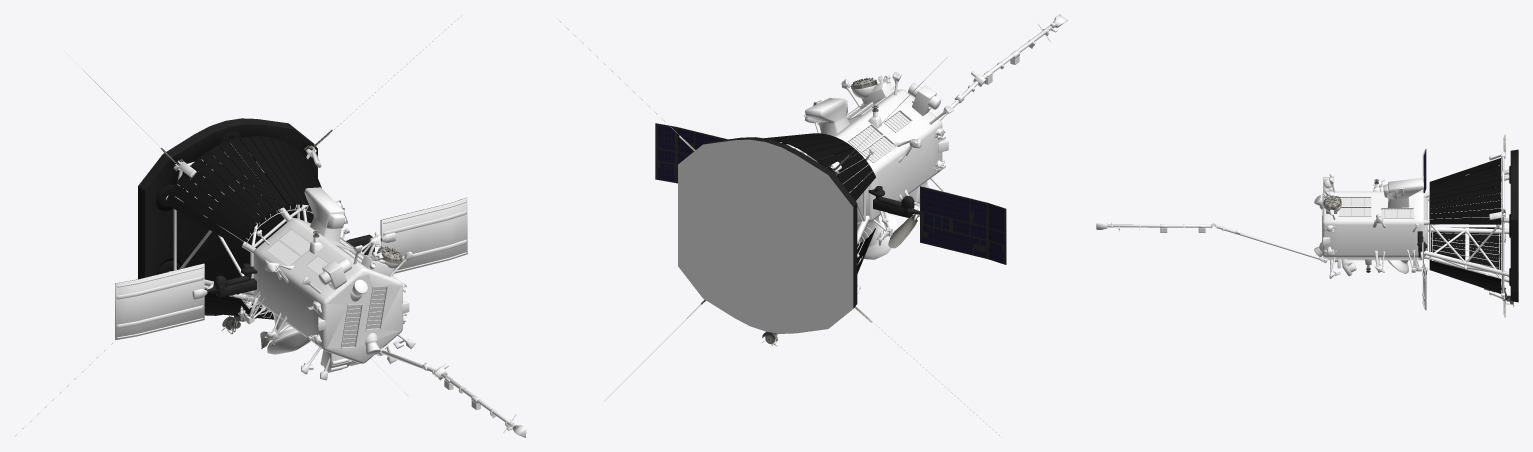
The model's file is PSP.gltf.
The picture shows the model from 3 angles, left to right: view 1: azimuth 30°, elevation 25°; view 2: azimuth 150°, elevation 25°; view 3: azimuth 270°, elevation 25°; orthographic projection. The views are drawn at different scales.
Visible parts, largest first — view 1: BUS, Instruments, CoolingSystem, solarWing_LeftBacking, solarWing_RightBacking, vents, solarArray_arms, boom, heatShield_Mounting, HGA; view 2: Instruments, BUS, CoolingSystem, vents, boom, solarArray_arms; view 3: BUS, CoolingSystem, Instruments, vents, boom, CoolingSystem_frame.
Boxes of the visible parts, bbox=[...] form: BUS: bbox=[165, 143, 415, 380]; Instruments: bbox=[115, 118, 466, 348]; CoolingSystem: bbox=[165, 136, 321, 319]; solarWing_LeftBacking: bbox=[115, 263, 204, 339]; solarWing_RightBacking: bbox=[381, 198, 467, 273]; vents: bbox=[265, 228, 387, 348]; solarArray_arms: bbox=[192, 232, 395, 299]; boom: bbox=[377, 345, 526, 437]; heatShield_Mounting: bbox=[156, 131, 242, 294]; HGA: bbox=[267, 331, 310, 354]; Instruments: bbox=[655, 77, 1006, 346]; BUS: bbox=[788, 72, 953, 294]; CoolingSystem: bbox=[764, 133, 875, 273]; vents: bbox=[846, 97, 912, 162]; boom: bbox=[939, 14, 1067, 120]; solarArray_arms: bbox=[868, 186, 919, 217]; BUS: bbox=[1314, 151, 1509, 300]; CoolingSystem: bbox=[1429, 158, 1501, 293]; Instruments: bbox=[1323, 134, 1518, 317]; vents: bbox=[1322, 196, 1414, 242]; boom: bbox=[1096, 222, 1327, 263]; CoolingSystem_frame: bbox=[1429, 165, 1511, 304].
Bounding box in the file's own units: 5.75 × 5.26 × 6.61.
8 materials, 2 textured.
